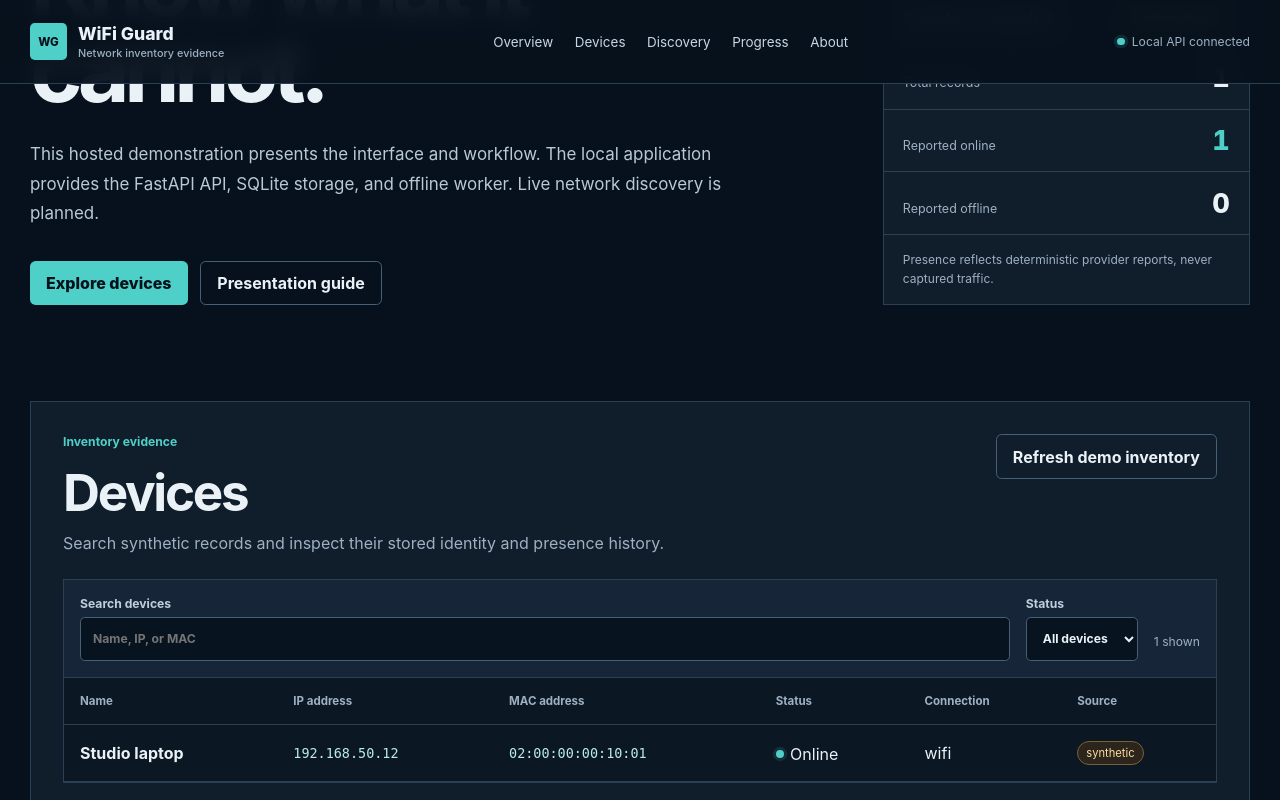
Test: persisted inventory flows › prevents duplicate refreshes and reports the persisted result
The width and height of the screenshot is (1280, 800).
(page scrolled)
Click the button "Refresh demo inventory". click: {"x": 1106, "y": 456}
box: 996,434 -> 1217,479
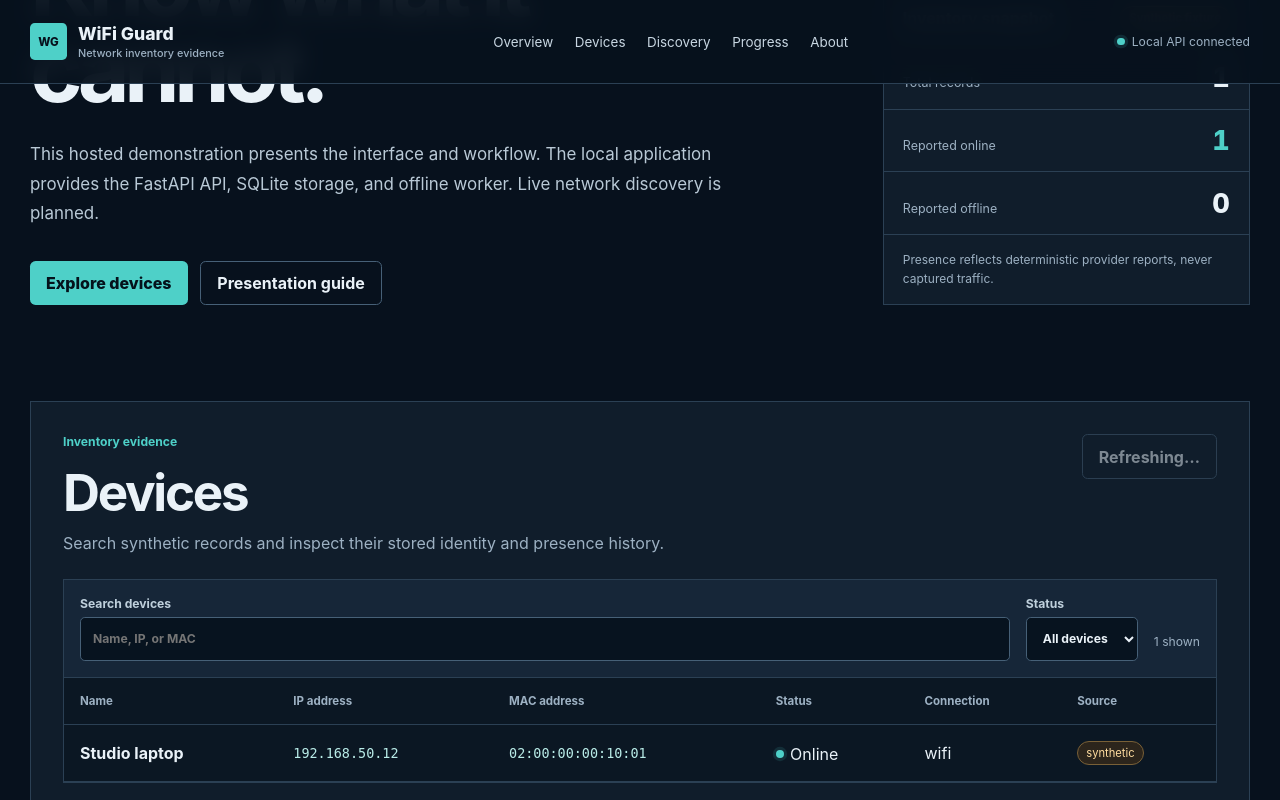
Check: the button "Refreshing…" is disabled
Click the button "Refreshing…". click: {"x": 1149, "y": 456}
box: 1082,434 -> 1217,479
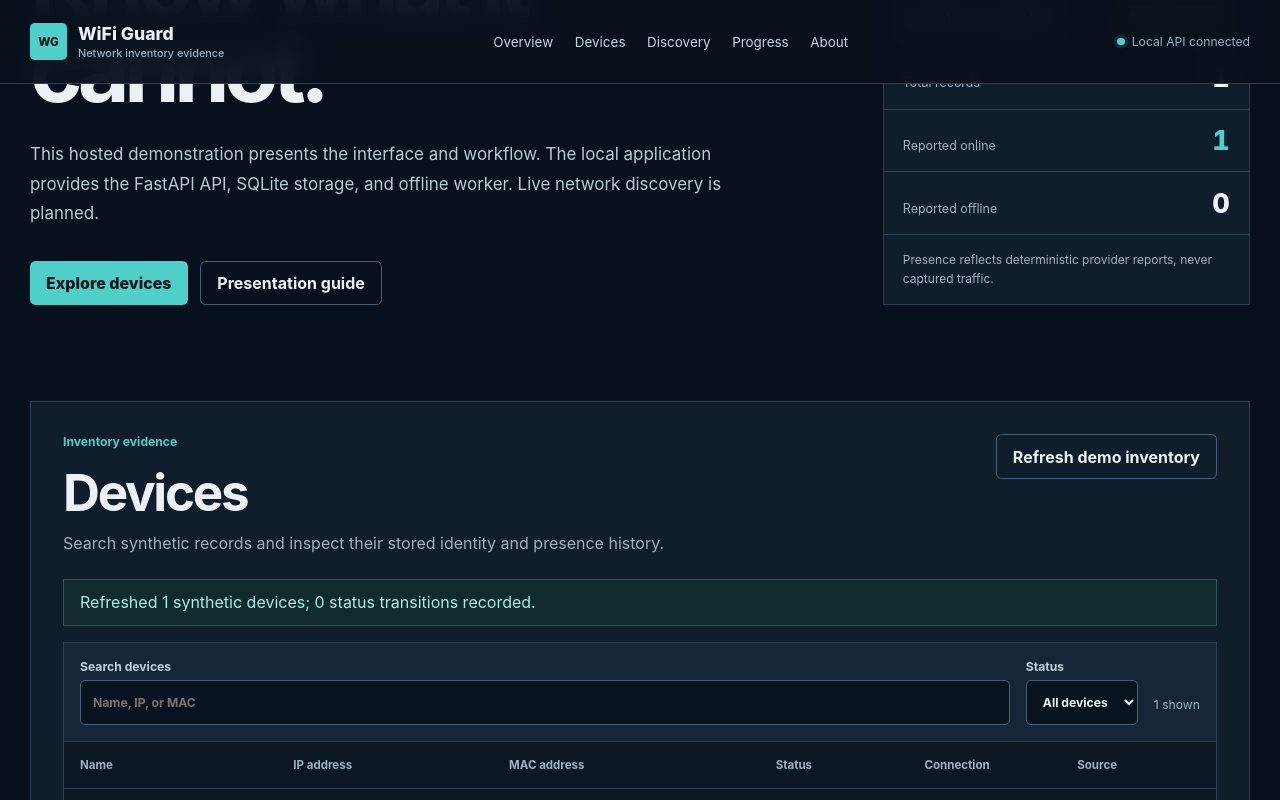
Check: the text "Refreshed 1 synthetic devices; 0 status transitions recorded." is shown, box 63,578 -> 1217,626
